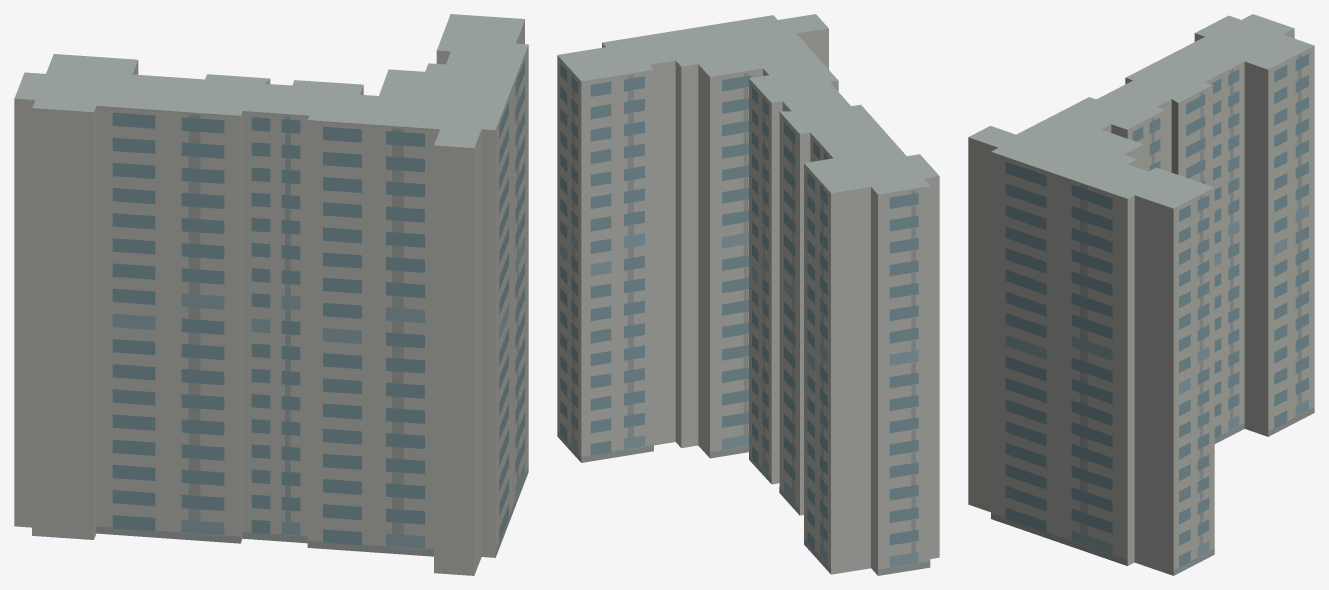
The model's file is residential-c30855ac-2241-431d-b7dc-8399f6dad9fc.glb.
The picture shows the model from 3 angles, left to right: view 1: azimuth 30°, elevation 25°; view 2: azimuth 150°, elevation 25°; view 3: azimuth 270°, elevation 25°; orthographic projection. The views are drawn at different scales.
Visible parts, largest first — view 1: residential-c30855ac-2241-431d-b7dc-8399f6dad9fc.tmp; view 2: residential-c30855ac-2241-431d-b7dc-8399f6dad9fc.tmp; view 3: residential-c30855ac-2241-431d-b7dc-8399f6dad9fc.tmp.
Part boxes in pixels (<box>): residential-c30855ac-2241-431d-b7dc-8399f6dad9fc.tmp: <box>14,14,528,575</box>; residential-c30855ac-2241-431d-b7dc-8399f6dad9fc.tmp: <box>557,14,939,575</box>; residential-c30855ac-2241-431d-b7dc-8399f6dad9fc.tmp: <box>968,14,1314,575</box>.
Size of the model in its own units: 55.7 by 49 by 41.89.
